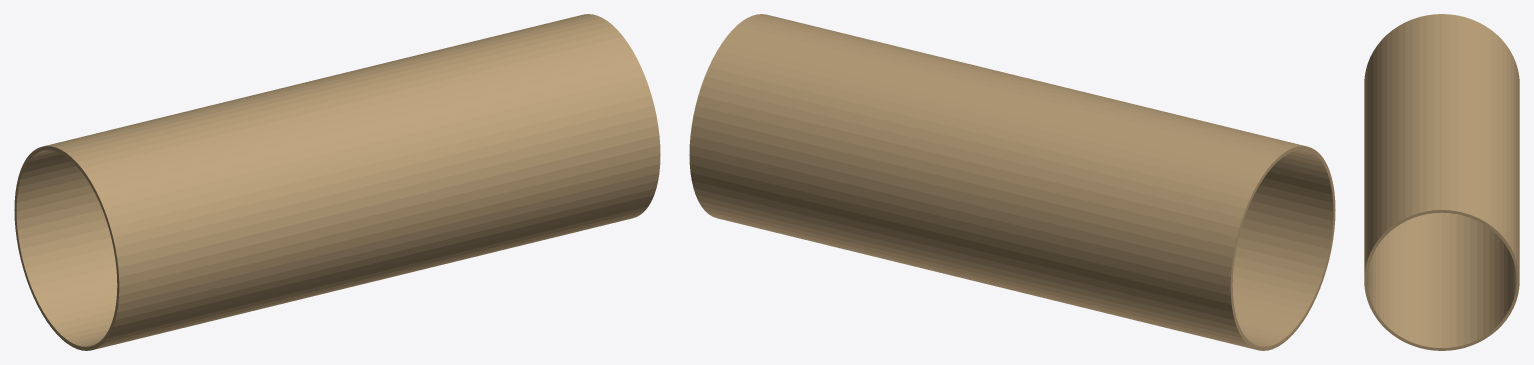
Rendered from paper.glb.
The picture shows the model from 3 angles, left to right: view 1: azimuth 30°, elevation 25°; view 2: azimuth 150°, elevation 25°; view 3: azimuth 270°, elevation 25°; orthographic projection. The views are drawn at different scales.
Visible parts, largest first — view 1: FinishedHollowTube; view 2: FinishedHollowTube; view 3: FinishedHollowTube.
Part boxes in pixels (box(x1,y1,x2,y2)): FinishedHollowTube: box(14, 14, 660, 350); FinishedHollowTube: box(689, 14, 1335, 350); FinishedHollowTube: box(1364, 14, 1519, 350).
Bounding box in the file's own units: 0.298 × 0.1 × 0.1.
